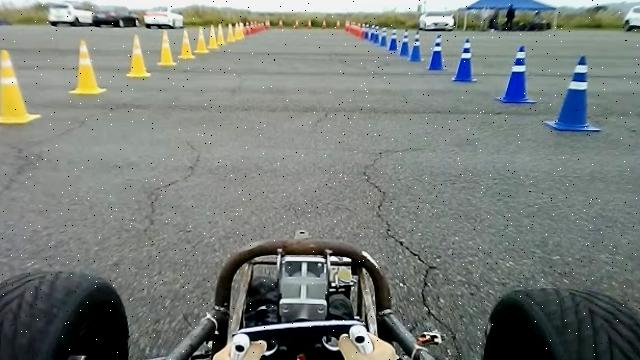blue cone: (544, 54, 602, 132), (494, 45, 537, 105), (451, 36, 477, 82), (427, 33, 448, 71), (407, 30, 425, 62)
yellow cone: (0, 49, 43, 124), (69, 38, 107, 94), (125, 33, 152, 77), (157, 29, 178, 66), (178, 29, 196, 58), (194, 25, 209, 53)
